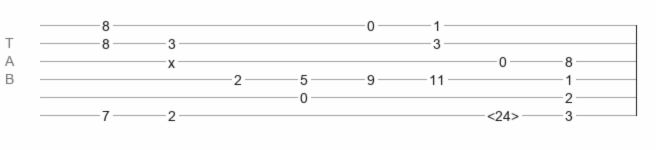0: (300, 90, 308, 100), (367, 18, 375, 28), (499, 54, 507, 64)
1: (433, 18, 441, 28), (565, 72, 573, 82)
11: (429, 72, 445, 82)
2: (168, 108, 176, 118), (234, 72, 242, 82), (565, 90, 573, 100)
3: (168, 36, 176, 46), (433, 36, 441, 46), (565, 108, 573, 118)
5: (300, 72, 308, 82)
7: (102, 108, 110, 118)
8: (102, 18, 110, 28), (102, 36, 110, 46), (565, 54, 573, 64)
9: (367, 72, 375, 82)
harmonic: (487, 108, 519, 118)
x: (168, 55, 175, 63)
